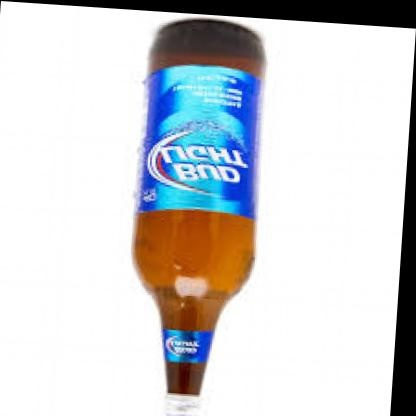trash: (133, 19, 264, 415)
